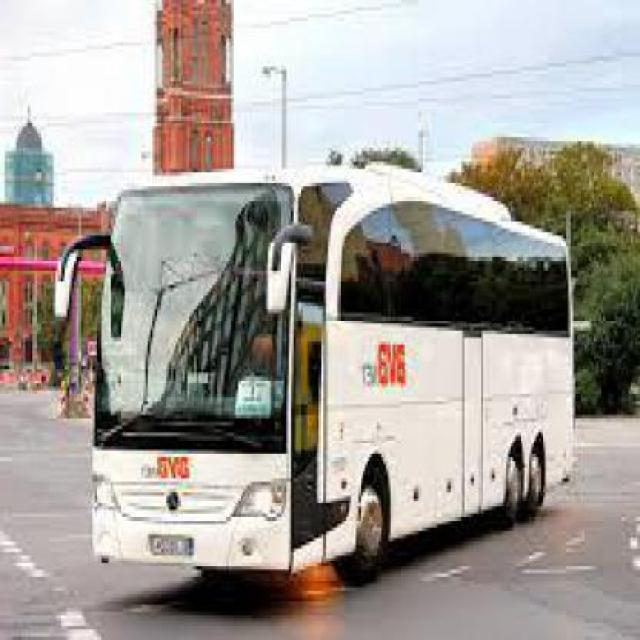bus: (54, 160, 575, 586)
